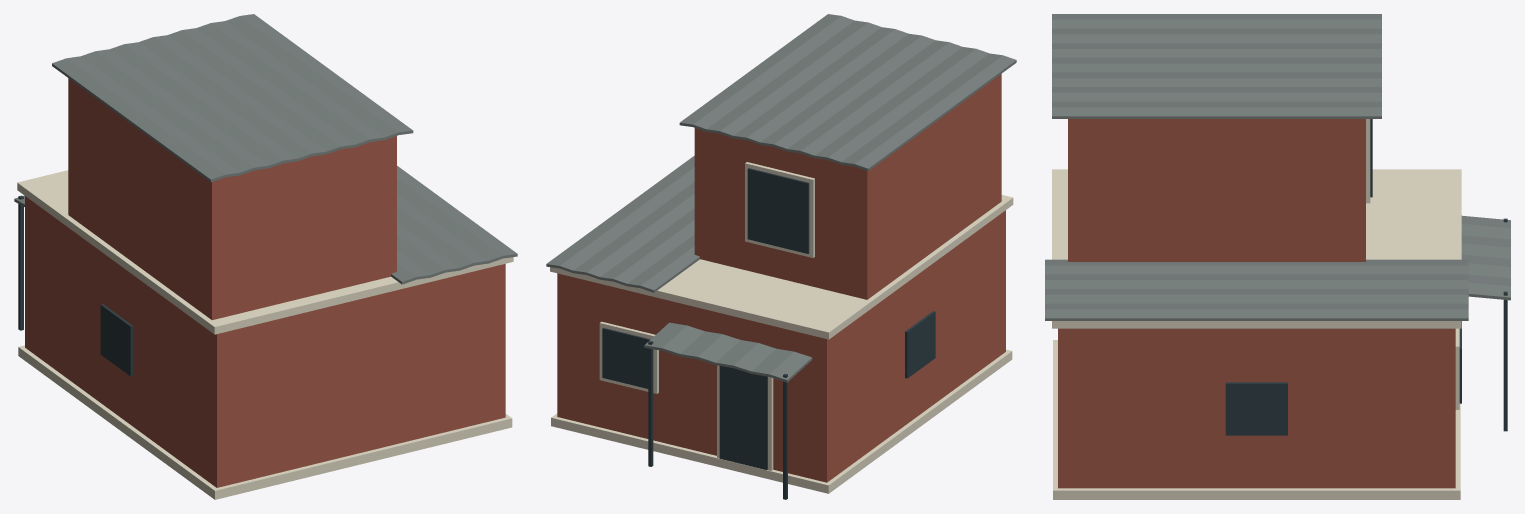
File: KOL_T3_INF_02.fbx
3 views of the same model, side by side, from view 1: azimuth 30°, elevation 25°; view 2: azimuth 150°, elevation 25°; view 3: azimuth 270°, elevation 25° (orthographic). The views are drawn at different scales.
Visible parts, largest first — view 1: KOL_T3_INF_02__Body, KOL_T3_INF_02__Roof, KOL_T3_INF_02__Trim, KOL_T3_INF_02__Dark; view 2: KOL_T3_INF_02__Body, KOL_T3_INF_02__Roof, KOL_T3_INF_02__Trim, KOL_T3_INF_02__Dark; view 3: KOL_T3_INF_02__Body, KOL_T3_INF_02__Roof, KOL_T3_INF_02__Trim, KOL_T3_INF_02__Dark.
Boxes of the visible parts, <box> form: KOL_T3_INF_02__Body: <box>25,78,505,487</box>; KOL_T3_INF_02__Roof: <box>14,14,517,284</box>; KOL_T3_INF_02__Trim: <box>17,170,513,499</box>; KOL_T3_INF_02__Dark: <box>18,195,133,376</box>; KOL_T3_INF_02__Body: <box>557,74,1005,482</box>; KOL_T3_INF_02__Roof: <box>546,14,1016,382</box>; KOL_T3_INF_02__Trim: <box>550,162,1013,493</box>; KOL_T3_INF_02__Dark: <box>602,168,935,499</box>; KOL_T3_INF_02__Body: <box>1058,119,1455,488</box>; KOL_T3_INF_02__Roof: <box>1045,14,1510,320</box>; KOL_T3_INF_02__Trim: <box>1052,119,1461,499</box>; KOL_T3_INF_02__Dark: <box>1225,119,1507,435</box>.
Bounding box in the file's own units: 21 × 21.38 × 26.95.
